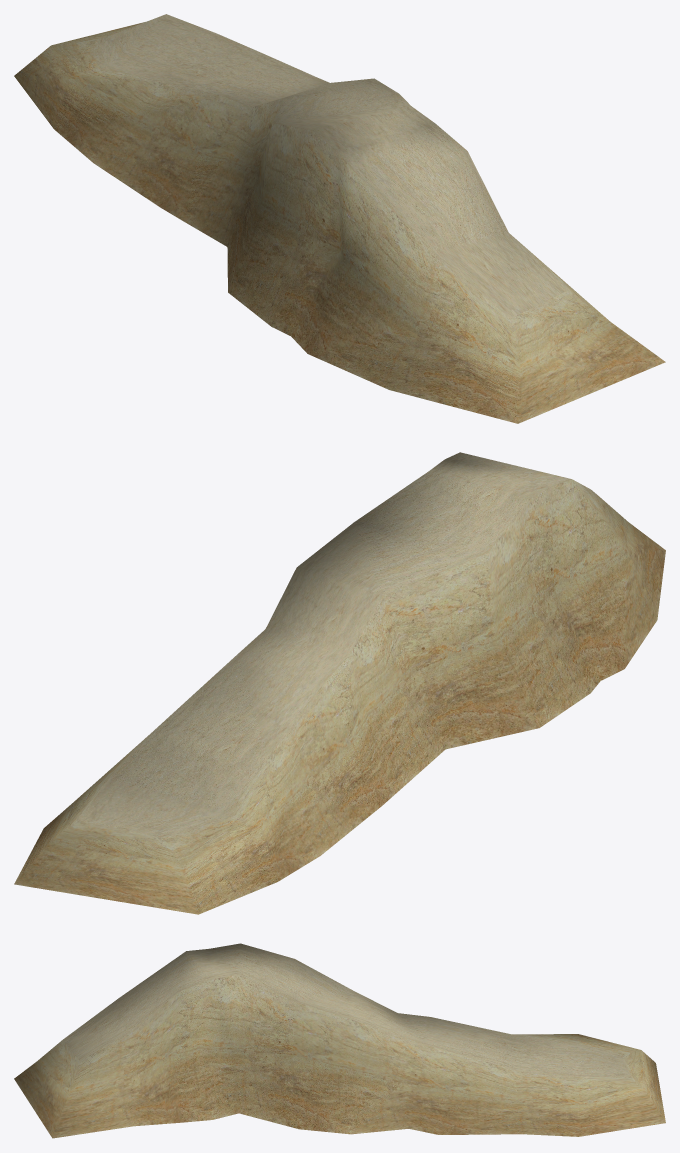
The model's file is rock_beach_spine_a4_l3.fbx.
3 views of the same model, one above another, from view 1: azimuth 30°, elevation 25°; view 2: azimuth 150°, elevation 25°; view 3: azimuth 270°, elevation 25° (orthographic). The views are drawn at different scales.
Parts seen in each view (by area): view 1: mesh_node; view 2: mesh_node; view 3: mesh_node.
Boxes of the visible parts, <box> form: mesh_node: <box>14,14,665,423</box>; mesh_node: <box>14,452,665,914</box>; mesh_node: <box>14,943,665,1138</box>.
Size of the model in its own units: 5.29 by 3.55 by 16.71.
